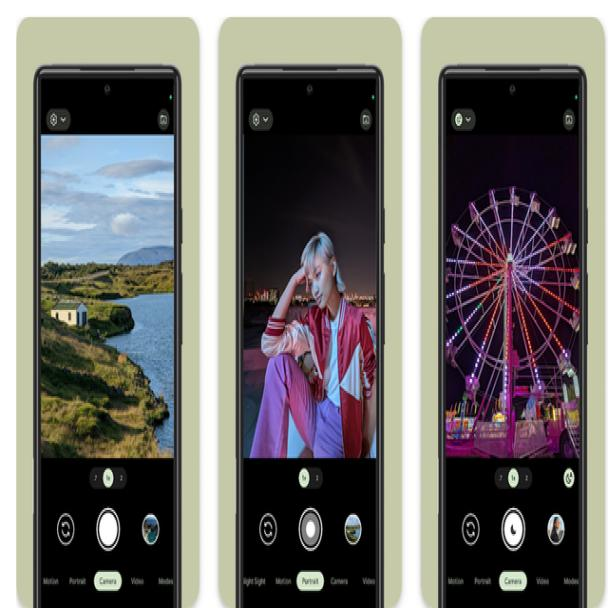Handphone: (233, 63, 384, 608), (437, 60, 587, 608), (34, 67, 181, 608)
